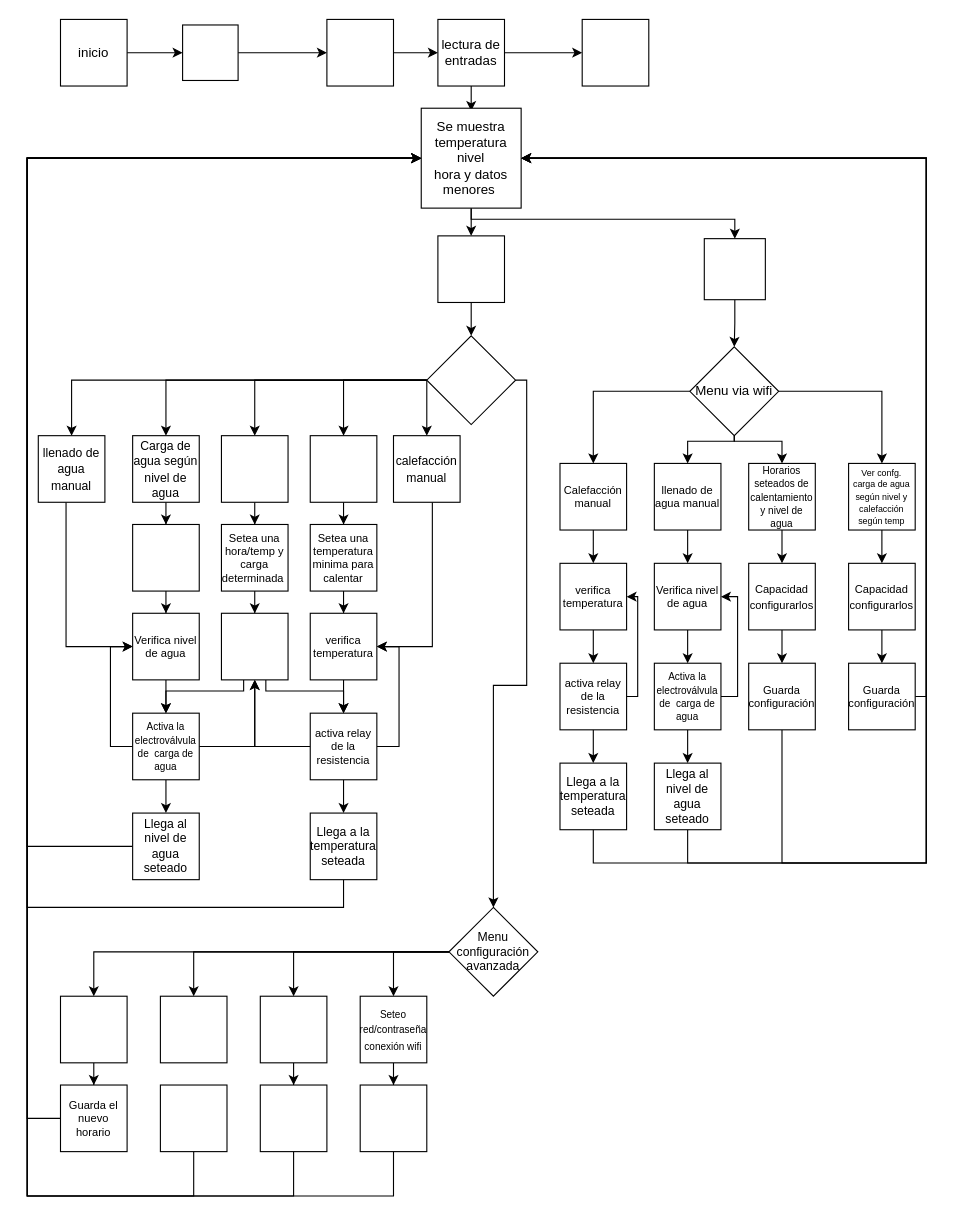
Some shapes in this 955 by 1224 pixel diagram are drawn without their labels. The box of each missing label's shape, as (x1, y1, x2, y2) in pixels:
activar bomba de agua: (259, 995, 327, 1063)
Calentador automático según temp.: (309, 435, 377, 502)
Cambio de unidad de temperatura °C o °F: (159, 995, 227, 1063)
carga calentador automático. según hora: (220, 435, 288, 502)
En display: (437, 235, 504, 302)
Guarda la configuracion de wifi: (359, 1084, 427, 1152)
Guarda la unidad de medida: (159, 1084, 227, 1152)
inicio modulo wifi: (581, 18, 649, 86)
Menu basico: (426, 335, 516, 425)
Se activa el uso del relay de la bomba de agua: (259, 1084, 327, 1152)
Setea un nivel de agua minimo para cargar: (132, 523, 199, 591)
Seteo de hora: (59, 995, 127, 1063)
setup: (181, 24, 238, 80)
test sensores: (326, 18, 393, 86)
Verifica hora: (220, 612, 288, 680)
Via web: (703, 238, 765, 300)
